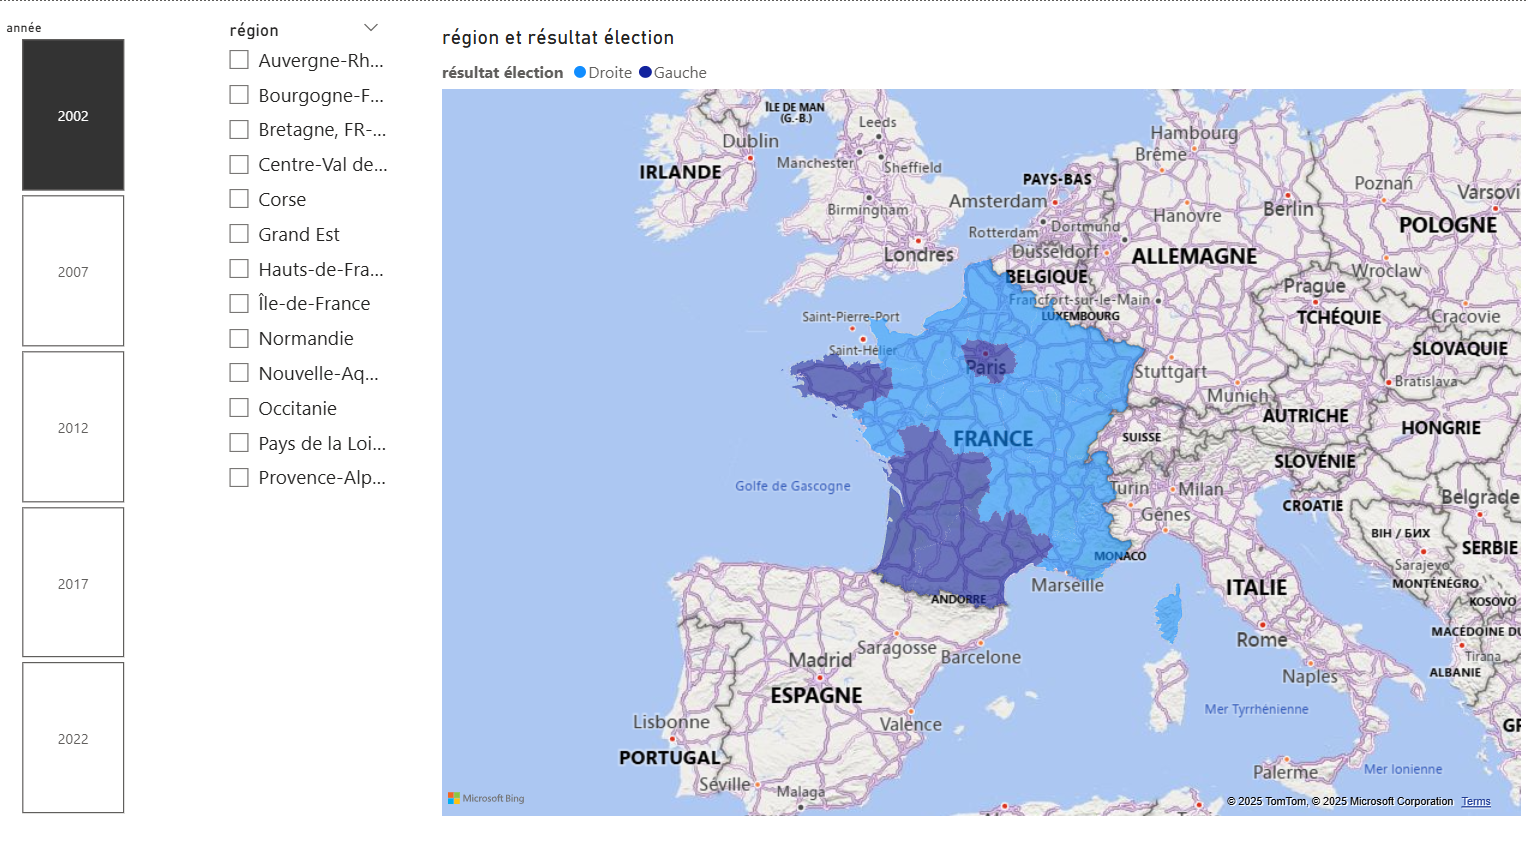

The dashboard page shown, as its layout file describes it:
{"tool":"powerbi","page":{"name":"Cartographie des résultats élections par région","canvas":[1280,720],"ordinal":2},"visuals":[{"type":"filledMap","fields":{"Category":["Données élections.région"],"Series":["Données élections.résultat élection"]},"box":[370.8,20,909.2,664.2],"z":0},{"type":"slicer","fields":{"Values":["Données élections.année"]},"box":[0,10.8,135,673.3],"z":1},{"type":"slicer","fields":{"Values":["Données élections.région"]},"box":[185.5,11,150,673],"z":2}]}

Visuals, with their boxes on the page's 1280x720 design canvas (x1, y1, x2, y2). These are canvas units, not pixel positions in the 1527x858 screenshot, which may show the page scaled, cropped or inside an application window:
filledMap - Données élections.région x Données élections.résultat élection: [371, 20, 1280, 684]
slicer - Données élections.année: [0, 11, 135, 684]
slicer - Données élections.région: [186, 11, 336, 684]
